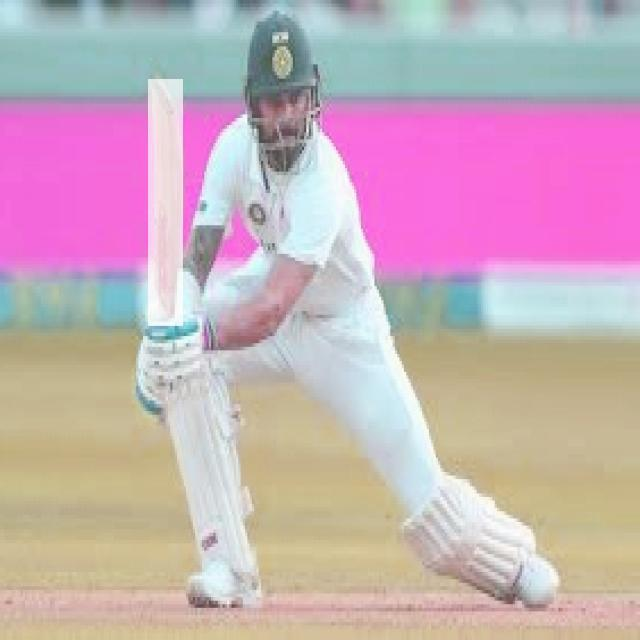bat: (150, 78, 185, 329)
toe: (154, 82, 180, 101)
